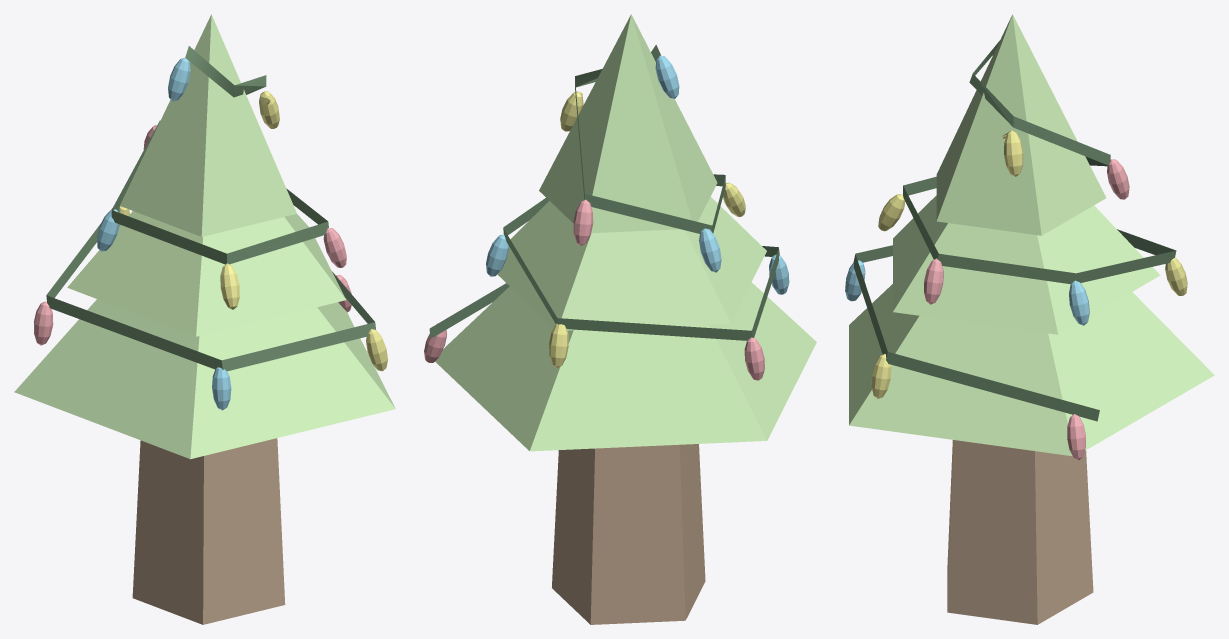
Rendered from treeBigLB.fbx.
3 renders of one model, left to right at view 1: azimuth 30°, elevation 25°; view 2: azimuth 150°, elevation 25°; view 3: azimuth 270°, elevation 25°, orthographic.
Visible parts, largest first — view 1: treeb, treeLightbulbs.003; view 2: treeb, treeLightbulbs.003; view 3: treeb, treeLightbulbs.003.
Part boxes in pixels (x1,y1,x2,y2): treeb: (14,14,395,624); treeLightbulbs.003: (34,46,387,410); treeb: (435,14,816,624); treeLightbulbs.003: (424,44,789,380); treeb: (849,14,1214,624); treeLightbulbs.003: (845,40,1187,460).
Bounding box in the file's own units: 596 × 971 × 563.
